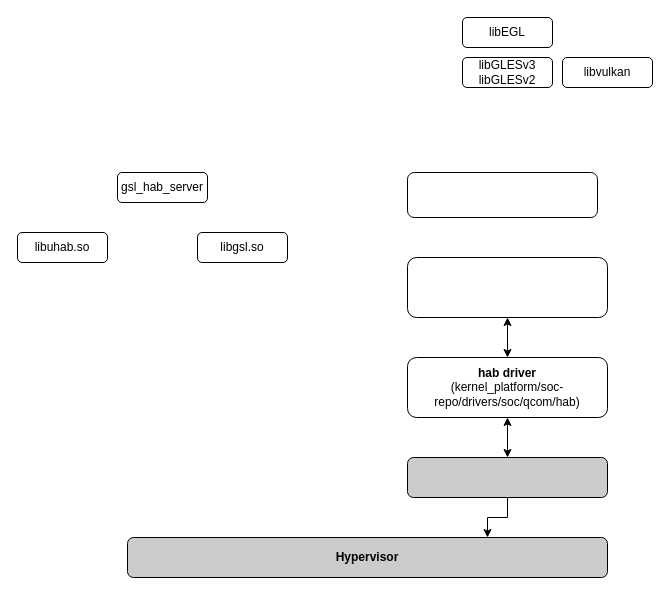
Some shapes in this 670 by 595 pixel diagram are drawn without their labels. Here are the shapes that lost their labels. From the top down, the centre of each, then its label:
At (502,195): "/dev/hgsl".
At (507,287): "graphics hgsl (vendor/qcom/opensource/graphics-hgsl)".
At (507,477): "Virtio Device".
